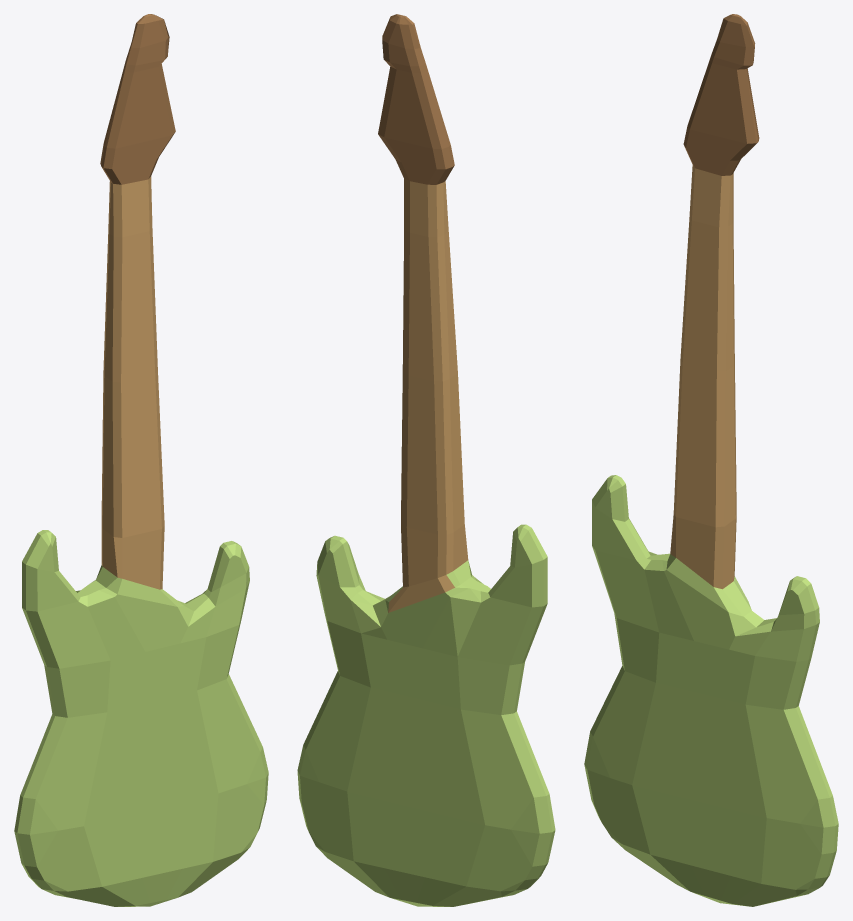
Rendered from Guitar.fbx.
3 views of the same model, side by side, from view 1: azimuth 30°, elevation 25°; view 2: azimuth 150°, elevation 25°; view 3: azimuth 330°, elevation 25° (orthographic).
Parts seen in each view (by area): view 1: Guitar; view 2: Guitar; view 3: Guitar.
Part boxes in pixels (<box>): Guitar: <box>14,14,268,906</box>; Guitar: <box>297,14,555,906</box>; Guitar: <box>584,14,838,906</box>.
Size of the model in its own units: 0.2289 by 0.769 by 0.0391.
Materials: 1 (1 with a texture image).
